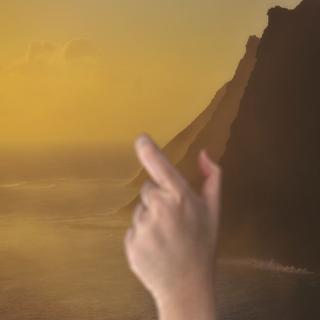Irritated: (113, 128, 228, 314)
